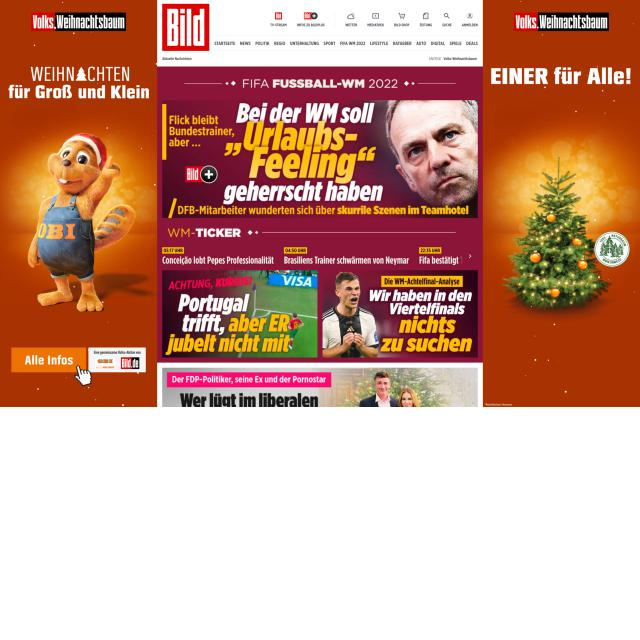ImageView: (0, 0, 158, 408), (482, 0, 639, 406)
QR code: (160, 242, 478, 268)
accordion: (246, 228, 459, 238), (183, 80, 237, 88), (404, 79, 457, 87)
bag: (157, 0, 482, 66)
card: (162, 100, 478, 219)
carousel: (303, 12, 318, 20), (346, 12, 356, 20), (274, 11, 282, 20), (372, 12, 380, 20), (398, 12, 406, 20), (422, 12, 429, 20), (443, 12, 450, 20), (466, 12, 473, 20)
copy: (162, 269, 319, 358), (322, 270, 478, 358)
data feed: (296, 22, 325, 28), (393, 22, 410, 28), (366, 23, 385, 28), (269, 22, 287, 27), (419, 22, 433, 28), (462, 23, 478, 28), (441, 22, 453, 28), (345, 22, 358, 27)
date picker: (162, 3, 210, 52)
decoration: (214, 40, 479, 46)
